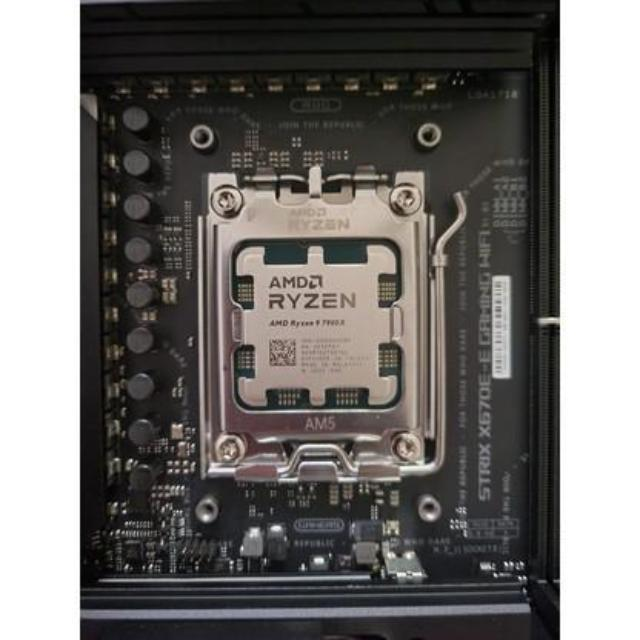CPU: (233, 238, 404, 408)
